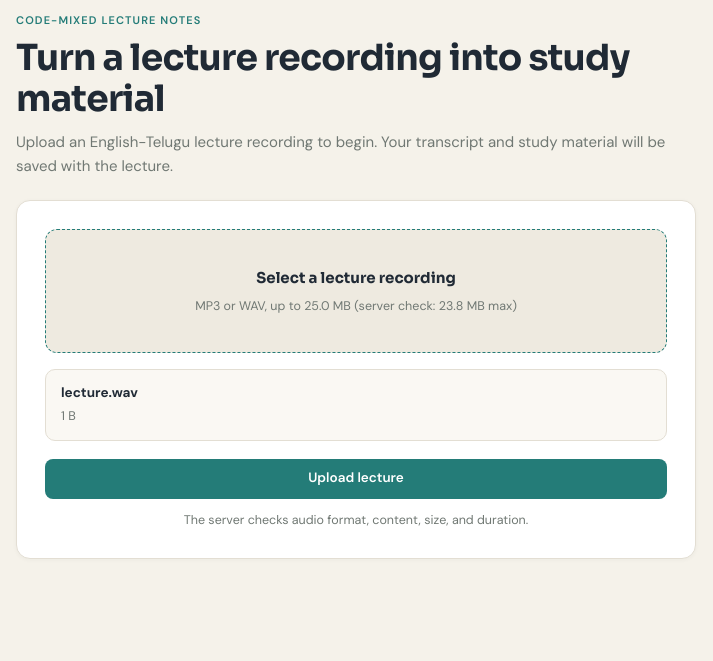
Test: UploadPage › shows progress for a pending upload without reporting a fake percentage
Earlier steps of the test are not shown.
Click the button "Upload lecture" at (356, 479), box 45,459 -> 667,499
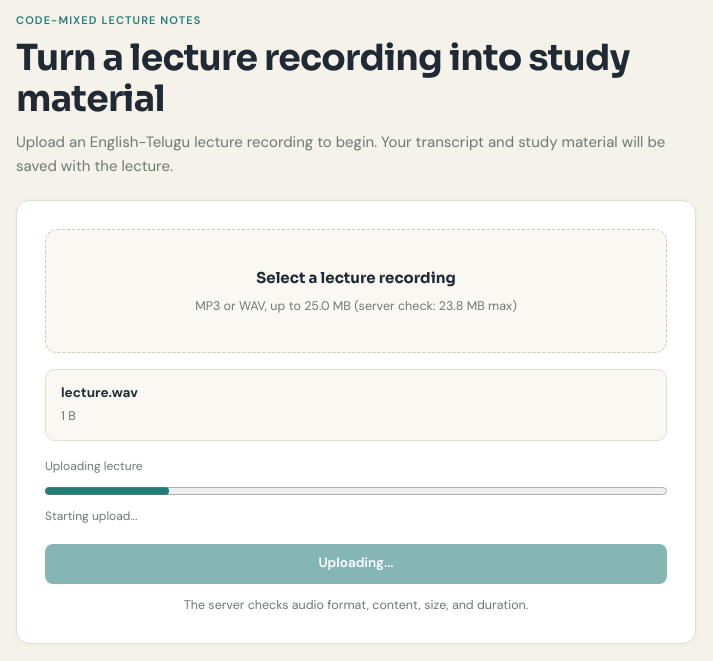
Now the text "Starting upload..." is shown, box 45,508 -> 137,524
